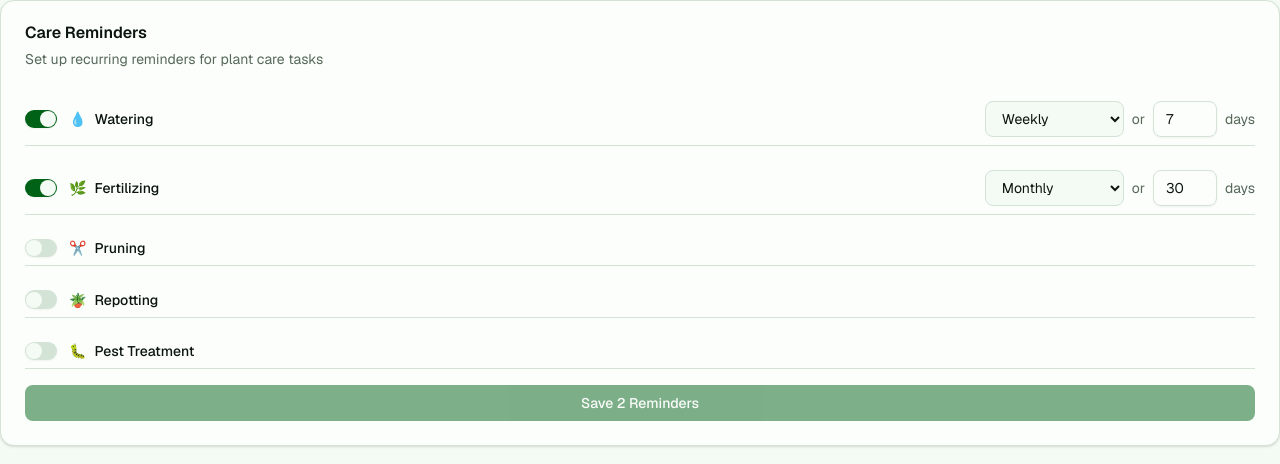
CareScheduleForm › should not send duplicate disable requests on rapid double save
// Toggle watering OFF
Click the switch named "watering" next to "Watering" at (41, 119), box [25,110,57,128]
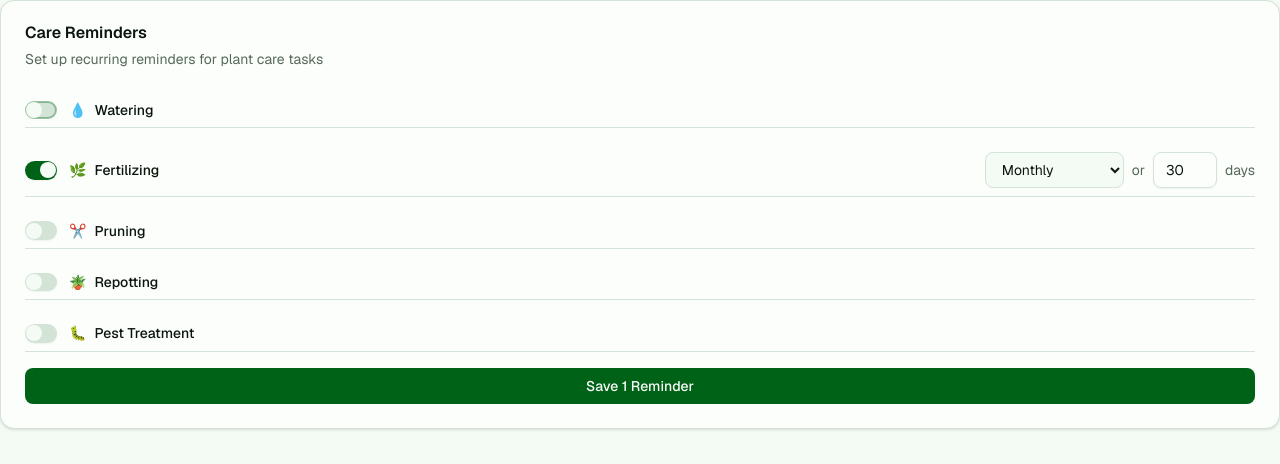
Click the button "Save 1 Reminder" at (640, 386), box [25,368,1255,404]
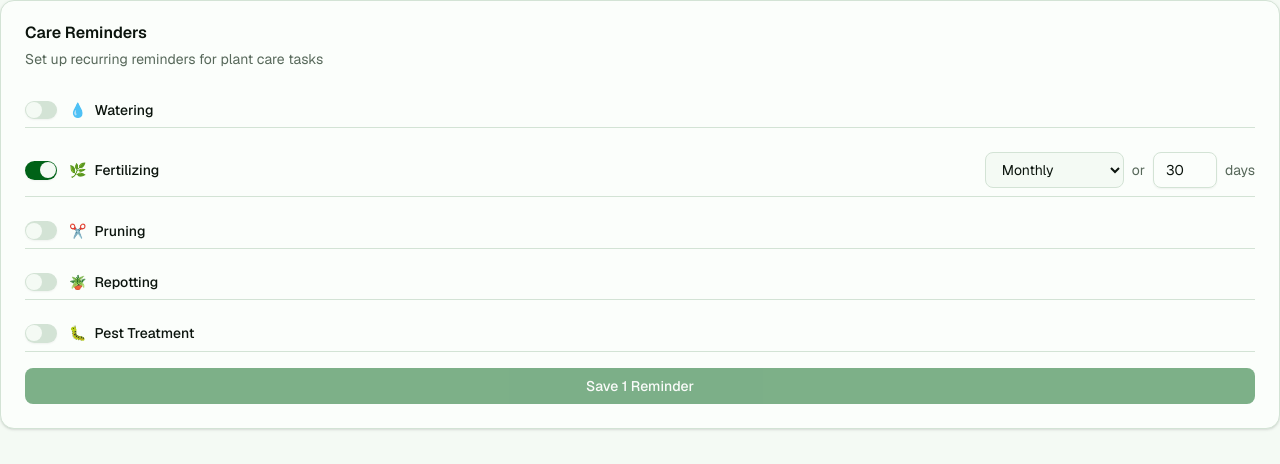
Check: the button "Save 1 Reminder" is disabled, box [25,368,1255,404]
